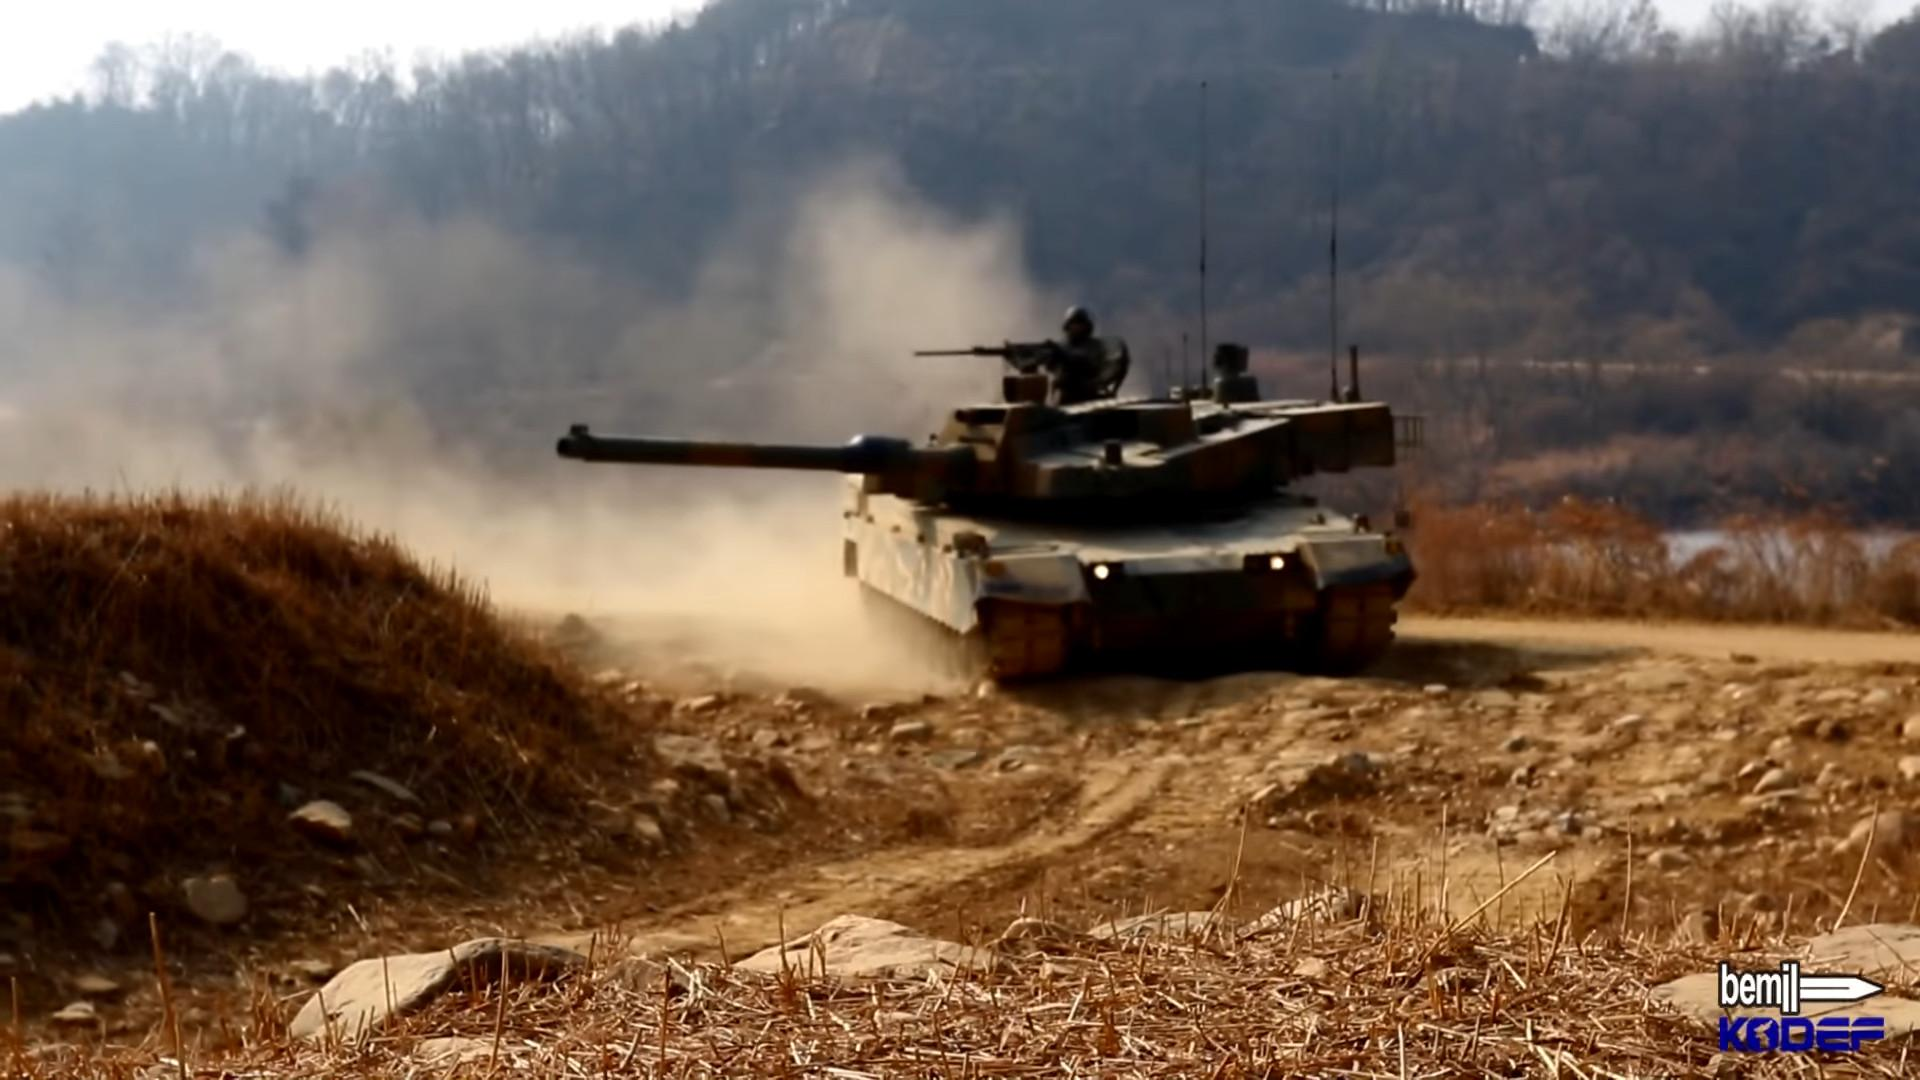tank: (556, 342, 1416, 680)
